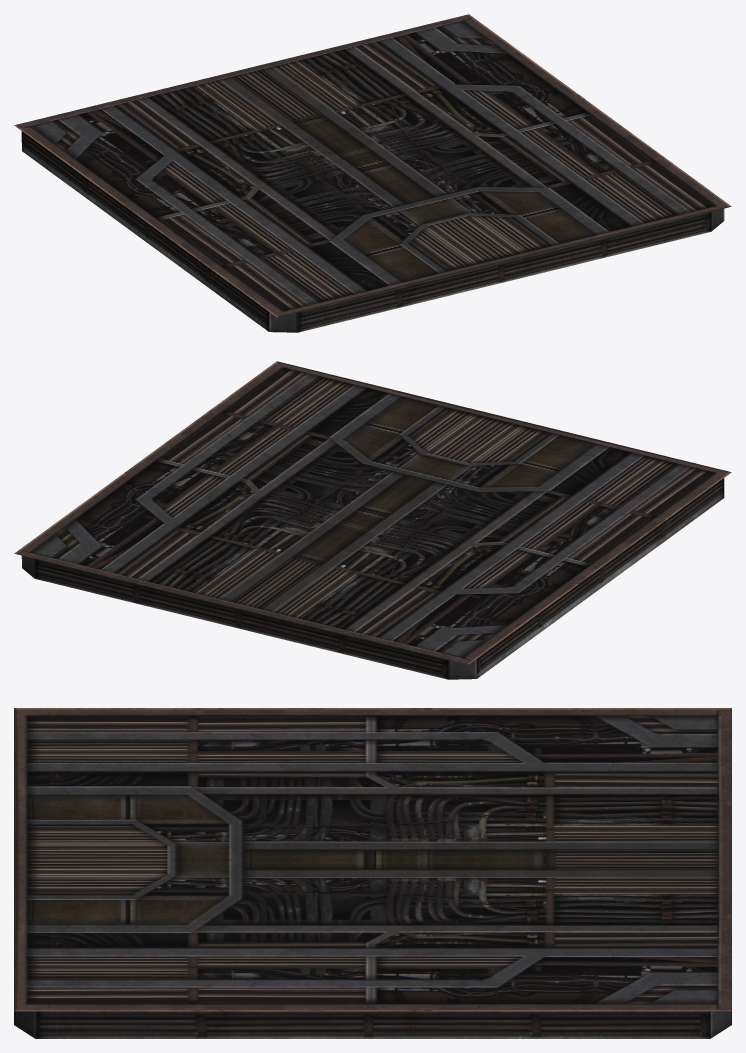
Rendered from ARC_CeilingLow_Single_Square.FBX.
The picture shows the model from 3 angles, top to bottom: view 1: azimuth 30°, elevation 25°; view 2: azimuth 150°, elevation 25°; view 3: azimuth 270°, elevation 25°; orthographic projection. The views are drawn at different scales.
Parts seen in each view (by area): view 1: ARC_CeilingLow_Single_Square; view 2: ARC_CeilingLow_Single_Square; view 3: ARC_CeilingLow_Single_Square.
Boxes of the visible parts, left/top/right/bottom form: ARC_CeilingLow_Single_Square: left=14, top=14, right=731, bottom=332; ARC_CeilingLow_Single_Square: left=14, top=361, right=731, bottom=679; ARC_CeilingLow_Single_Square: left=14, top=708, right=731, bottom=1038.
Bounding box in the file's own units: 550 × 23.18 × 550.
Materials: 1 (1 with a texture image).
